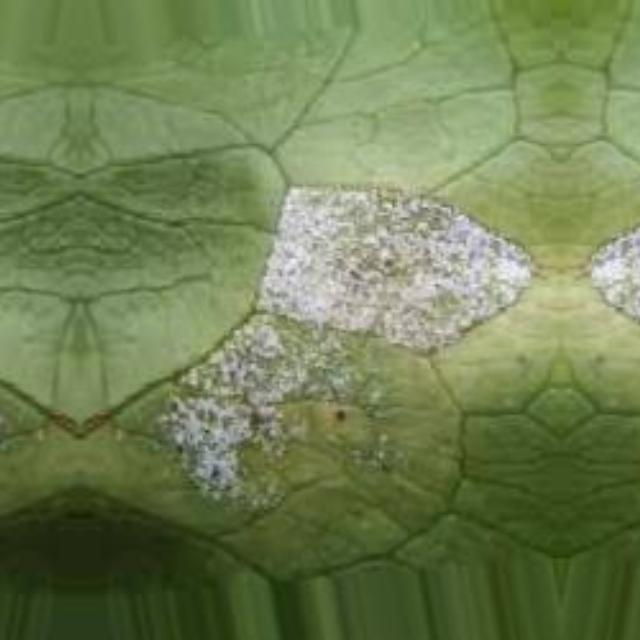Downy_mildew: (186, 300, 438, 478), (289, 154, 553, 310), (568, 154, 640, 310)
